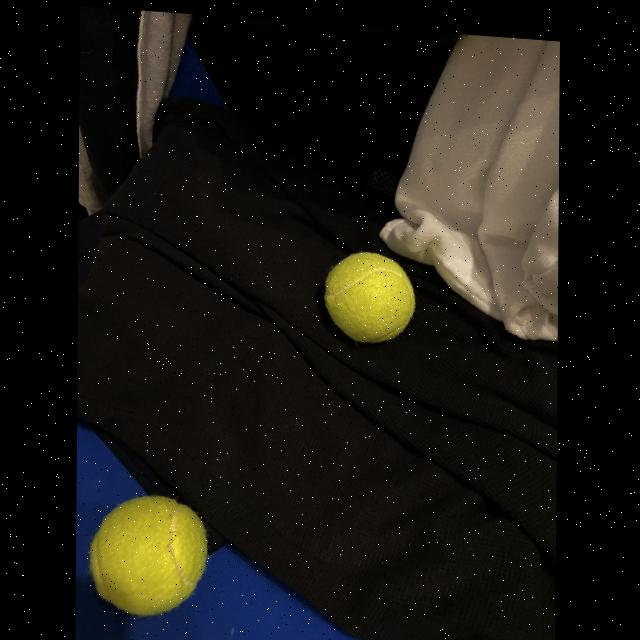Tennisball: (89, 495, 208, 616), (324, 252, 415, 344)
